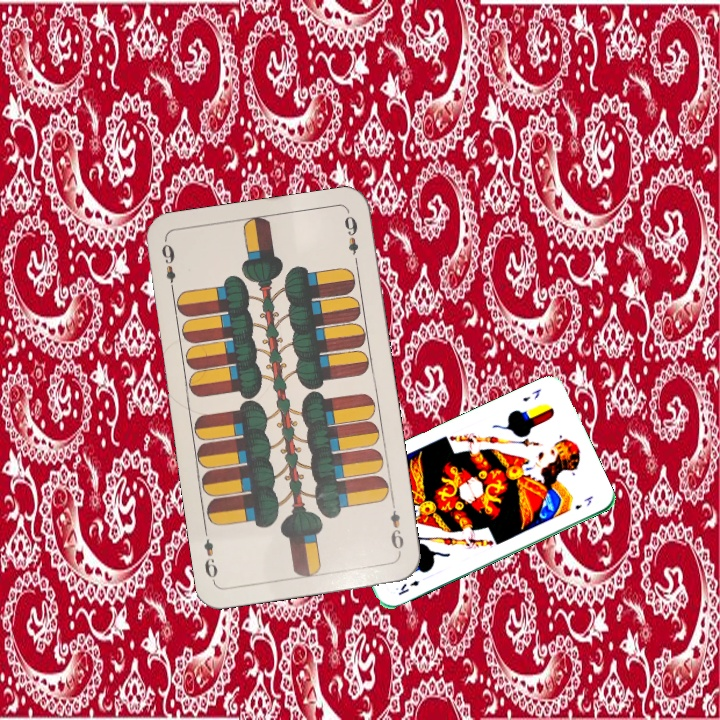E9: (157, 239, 178, 297), (386, 506, 407, 556)
EK: (394, 576, 422, 598), (518, 385, 544, 404)
